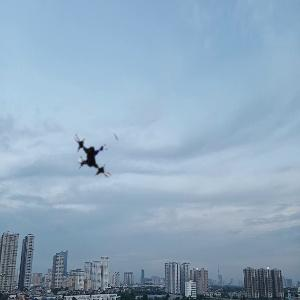drone: (68, 122, 127, 181)
